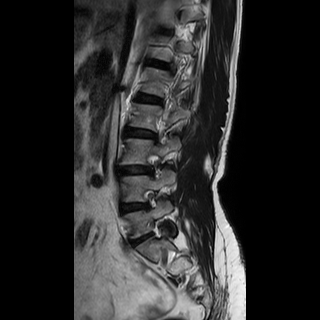RFS0: (138, 184, 165, 216)
